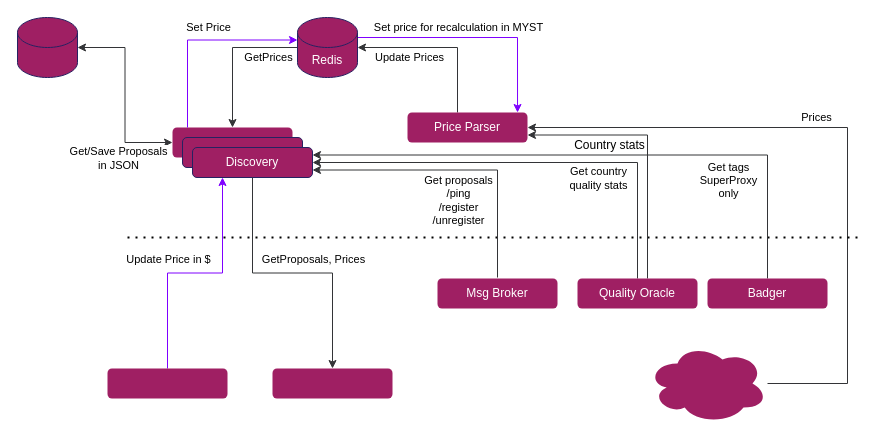
The diagram is 877 pixels wide and 441 high, and some of its shapes have lost their labels. The box of each missing label's shape, as (x1, y1, x2, y2) in pixels:
Gecko Coinranking APIs: (647, 343, 767, 423)
Node: (272, 368, 392, 398)
Postgres: (16, 16, 78, 78)
Universe Admin: (107, 368, 227, 398)
